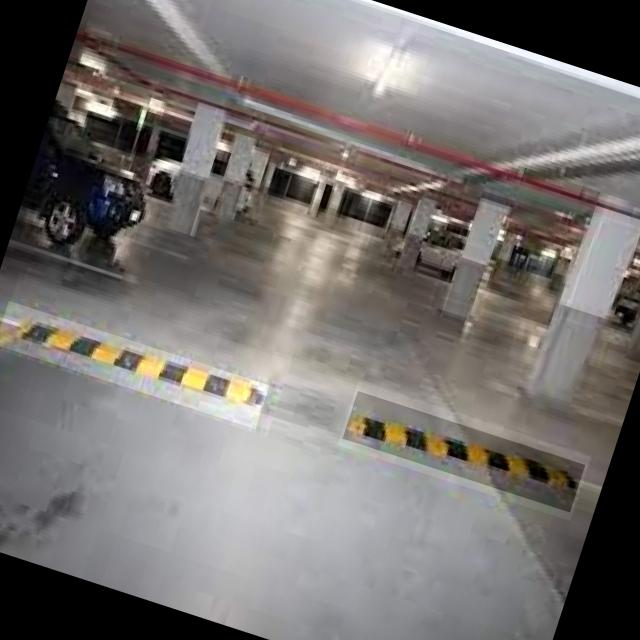bump: (0, 301, 269, 429), (342, 392, 585, 513)
